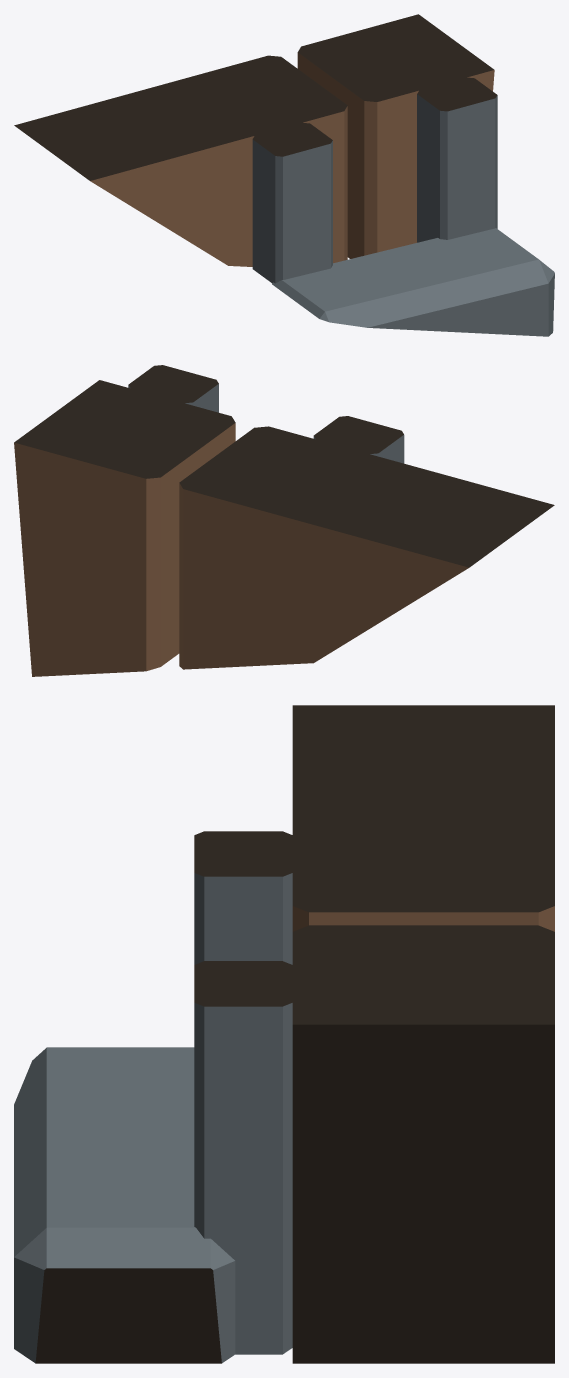
Rendered from SM_DoorShard_01_01.fbx.
The picture shows the model from 3 angles, top to bottom: view 1: azimuth 30°, elevation 25°; view 2: azimuth 150°, elevation 25°; view 3: azimuth 270°, elevation 25°; orthographic projection. The views are drawn at different scales.
Parts seen in each view (by area): view 1: SM_DoorShard_01_01; view 2: SM_DoorShard_01_01; view 3: SM_DoorShard_01_01.
Part boxes in pixels (x1=…): SM_DoorShard_01_01: x1=14, y1=14, x2=554, y2=336; SM_DoorShard_01_01: x1=14, y1=365, x2=554, y2=676; SM_DoorShard_01_01: x1=14, y1=705, x2=554, y2=1363.
Bounding box in the file's own units: 49.17 × 33 × 23.73.
